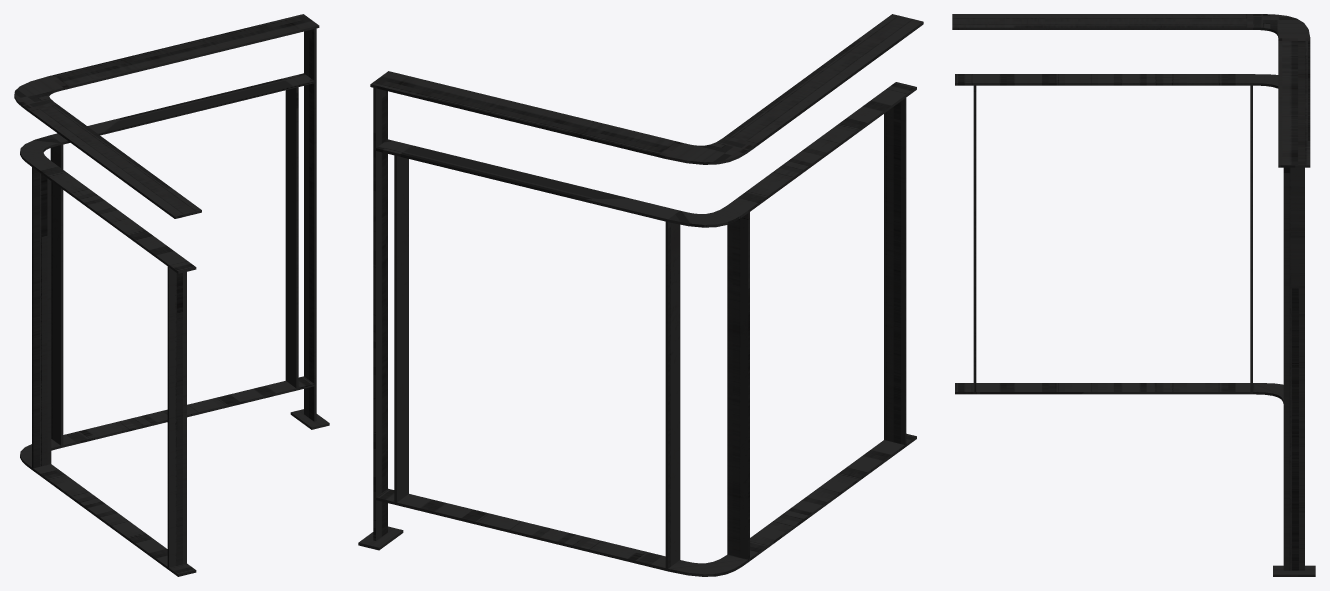
The model's file is railing_42x32_corner_frame.fbx.
The picture shows the model from 3 angles, left to right: view 1: azimuth 30°, elevation 25°; view 2: azimuth 150°, elevation 25°; view 3: azimuth 270°, elevation 25°; orthographic projection. The views are drawn at different scales.
Visible parts, largest first — view 1: railing_42x32_corner; view 2: railing_42x32_corner; view 3: railing_42x32_corner.
Boxes of the visible parts, <box> form: railing_42x32_corner: <box>14,14,329,576</box>; railing_42x32_corner: <box>358,14,923,576</box>; railing_42x32_corner: <box>952,14,1315,576</box>.
Size of the model in its own units: 34.5 by 42.25 by 34.13.
1 material, 1 textured.
